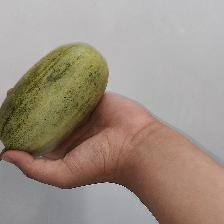gua: (19, 59, 79, 133)
